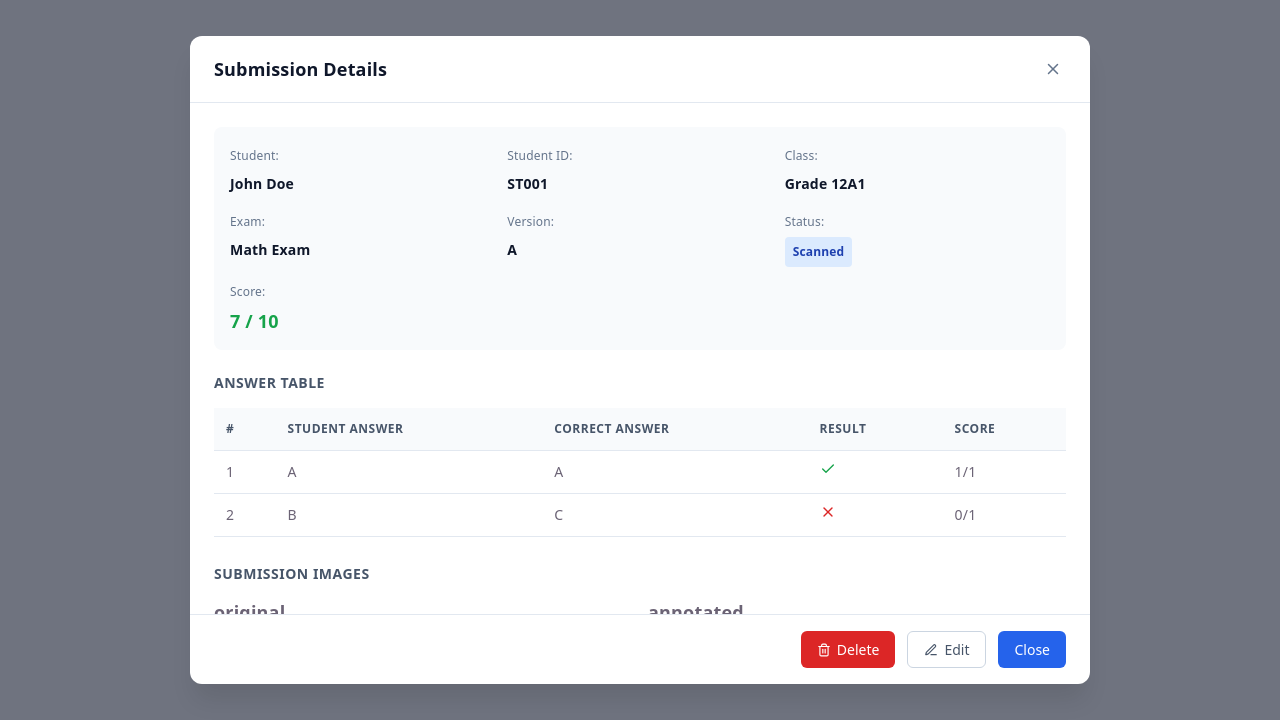
Test case: SubmissionDetailModal › Delete flow › shows confirm dialog when Delete clicked
What coordinates should you click on to do the following:
click the button "Delete"
I would click on:
 (848, 650)
Its box is [801,631,895,668].
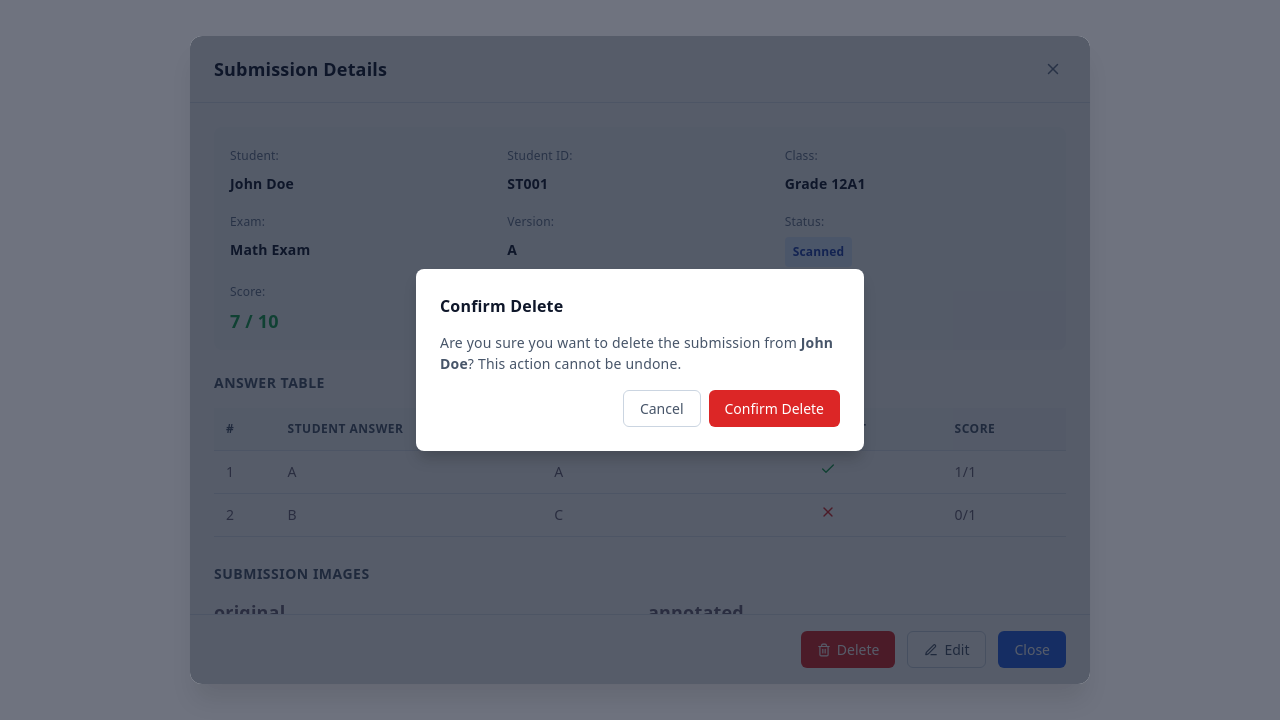
Expected: the heading "Confirm Delete" is shown, [440,296,563,318]
